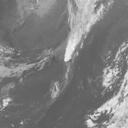cyclone: (28, 37, 92, 98)
